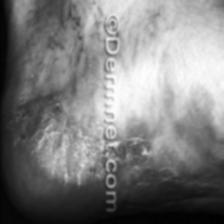Non-Cancerous Skin Condition: (30, 108, 90, 184)
